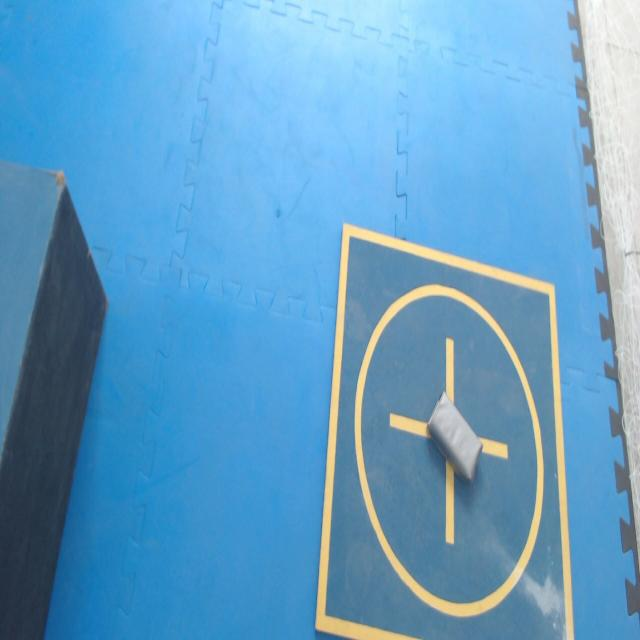lipo: (429, 393, 482, 480)
